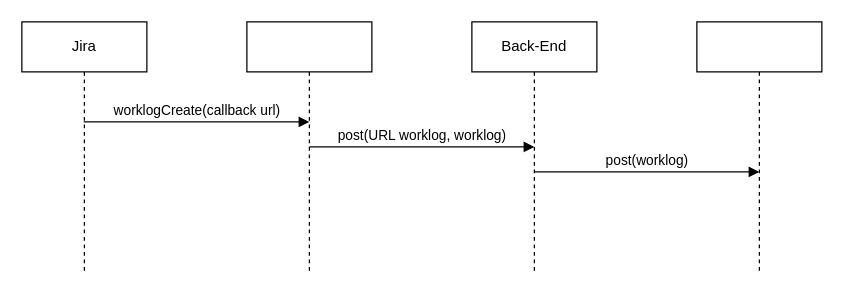
Image size: 844x294. Some labels were removed from this diagram. The box of each missing label's shape, as (x1, y1, x2, y2) in pixels:
DataBase: (696, 21, 822, 272)
Jira-Connector: (246, 21, 372, 272)
